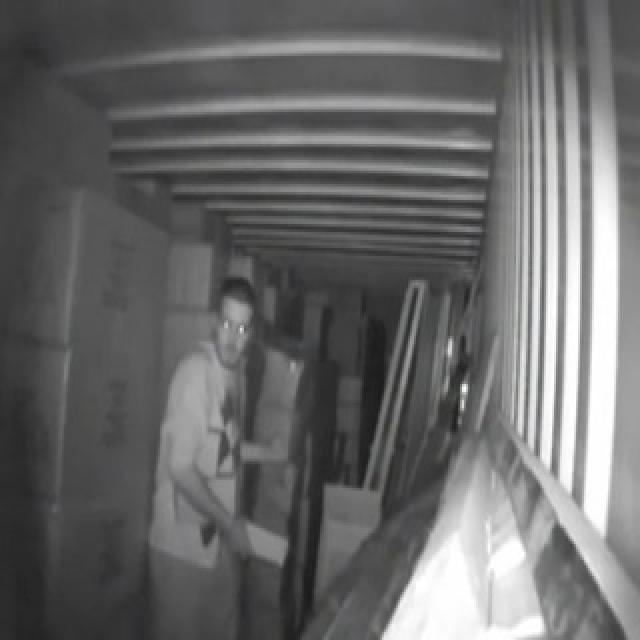thief: (154, 265, 289, 640)
